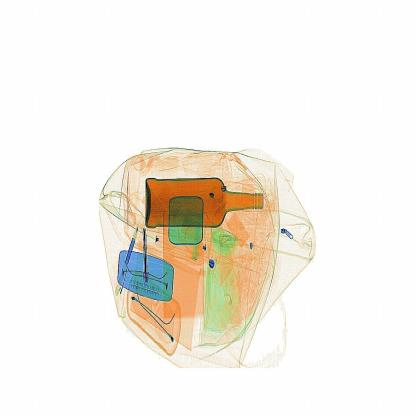knife: (141, 227, 151, 283)
